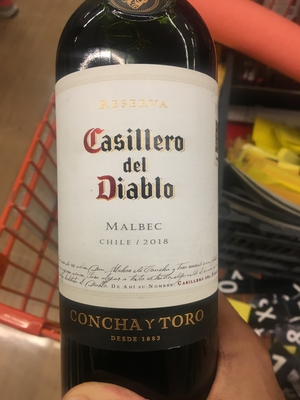casillero del diablo malbec: (51, 4, 234, 400)
